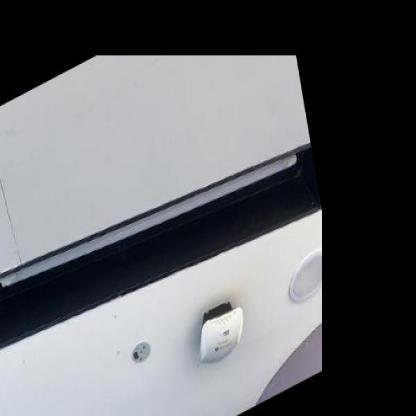light_off: (0, 49, 311, 409)
